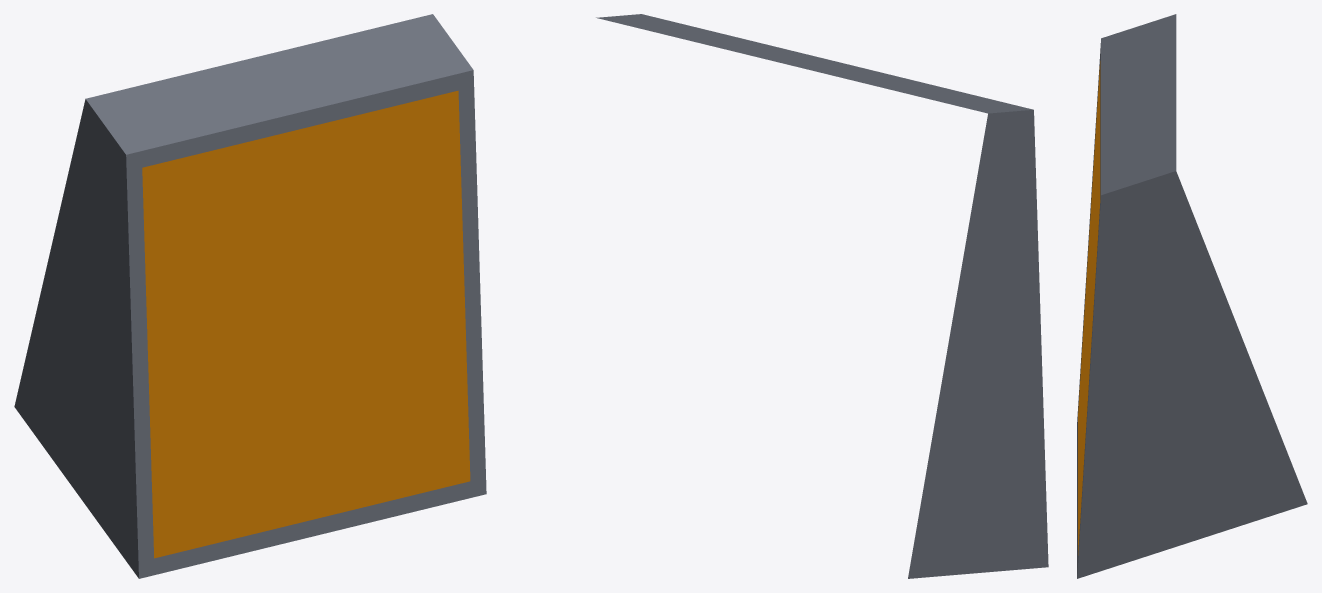
File: YellowButton.glb
3 views of the same model, side by side, from view 1: azimuth 30°, elevation 25°; view 2: azimuth 150°, elevation 25°; view 3: azimuth 270°, elevation 25° (orthographic). The views are drawn at different scales.
Visible parts, largest first — view 1: YellowButton; view 2: YellowButton; view 3: YellowButton.
Boxes of the visible parts, x1=… form: YellowButton: x1=14, y1=14, x2=486, y2=578; YellowButton: x1=596, y1=14, x2=1048, y2=578; YellowButton: x1=1077, y1=14, x2=1307, y2=578.
Size of what is drawn, in the model's own units: 0.0723 by 0.0876 by 0.0449.
Materials: 2 (2 with a texture image).
